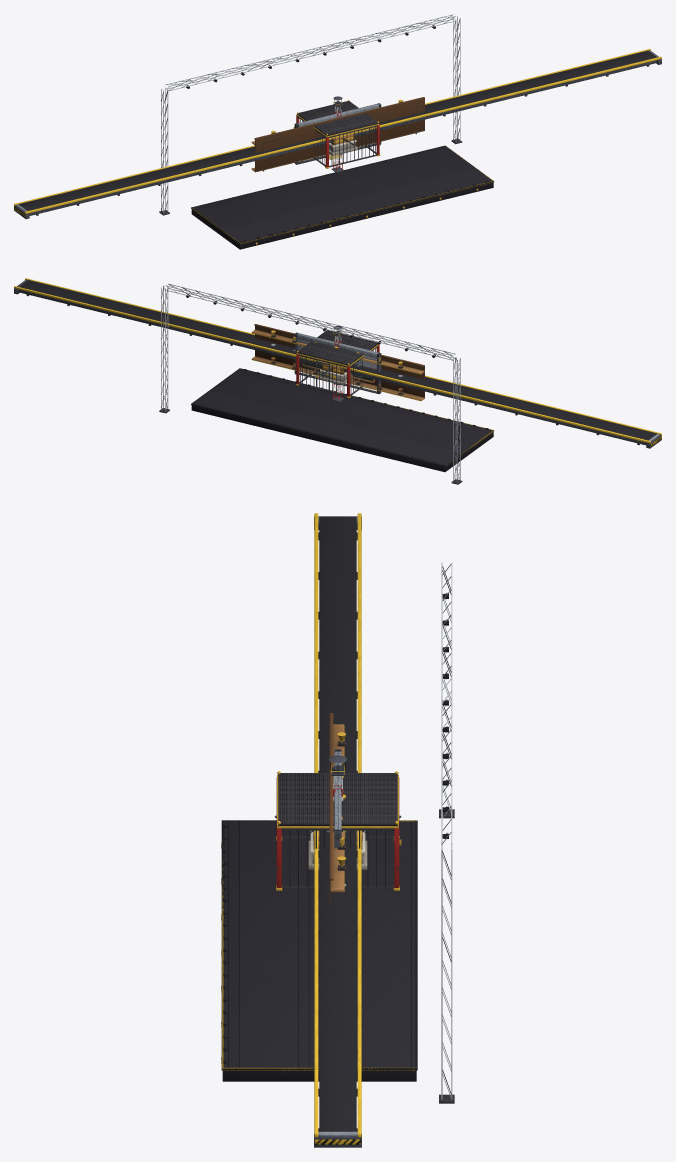
File: PocketProps2.fbx
3 views of the same model, one above another, from view 1: azimuth 30°, elevation 25°; view 2: azimuth 150°, elevation 25°; view 3: azimuth 270°, elevation 25° (orthographic). The views are drawn at different scales.
Parts seen in each view (by area): view 1: PkStageBody.001, PkConveyorBody.001, PkTrophyShelfBody.001, PkHoshiCageBody.001, PkRollDoorBody.001; view 2: PkStageBody.001, PkConveyorBody.001, PkHoshiCageBody.001, PkTrophyShelfBody.001, PkRollDoorBody.001; view 3: PkStageBody.001, PkConveyorBody.001, PkHoshiCageBody.001, PkTrophyShelfBody.001.
Boxes of the visible parts, x1,y1,x2,y2 form: PkStageBody.001: [159, 14, 494, 249]; PkConveyorBody.001: [14, 49, 661, 219]; PkTrophyShelfBody.001: [251, 97, 424, 172]; PkHoshiCageBody.001: [296, 100, 380, 168]; PkRollDoorBody.001: [294, 103, 381, 164]; PkStageBody.001: [159, 283, 494, 484]; PkConveyorBody.001: [14, 278, 661, 448]; PkHoshiCageBody.001: [295, 330, 379, 398]; PkTrophyShelfBody.001: [251, 324, 424, 401]; PkRollDoorBody.001: [294, 332, 381, 394]; PkStageBody.001: [221, 562, 454, 1103]; PkConveyorBody.001: [314, 513, 361, 1147]; PkHoshiCageBody.001: [274, 771, 401, 890]; PkTrophyShelfBody.001: [329, 713, 346, 906].
Bounding box in the file's own units: 300 × 57.36 × 47.67.
19 materials, 19 textured.
